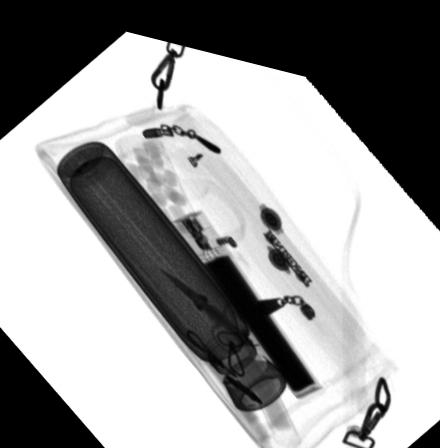Powerbank: (170, 199, 327, 382)
Scissors: (154, 258, 253, 341)
